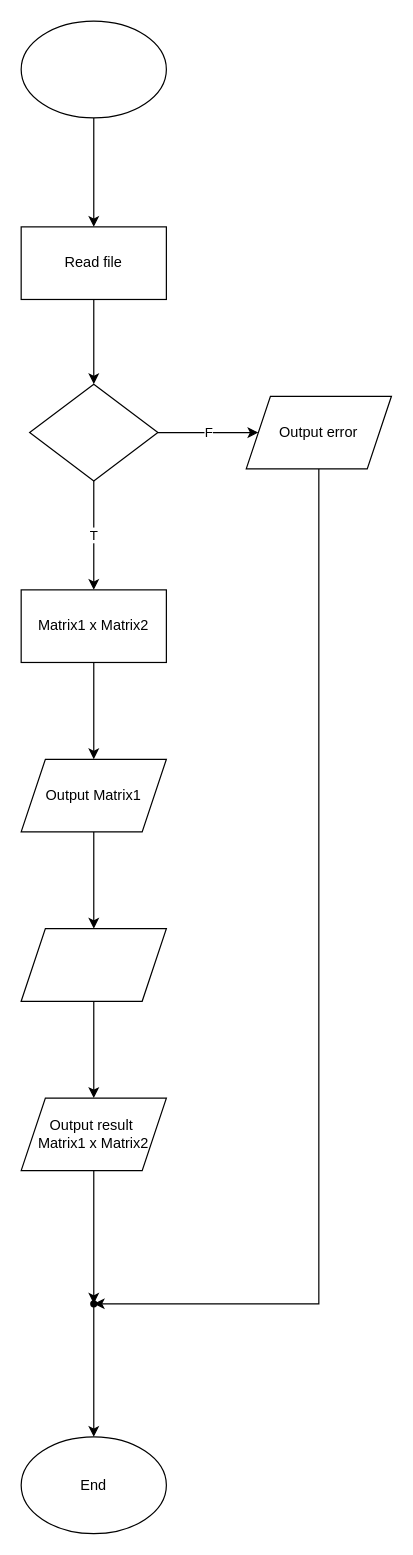
This 413x1555 diagram has some shape labels left out. Here are the shapes that lost their labels. From the top down, the centre of each, then its label:
(x=93, y=69): Start
(x=93, y=432): File 1 and 2 is multiply able
(x=93, y=964): Output Matrix2
